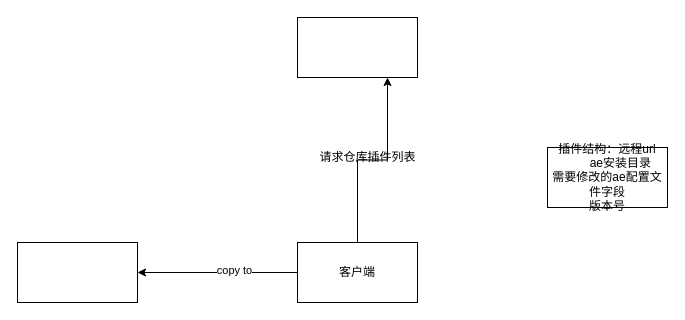
The diagram is 685 pixels wide and 320 high, and some of its shapes have lost their labels. The shapes that lost their labels are listed below. From the top down, each one's centre as x and y in pixels, then its label:
point (357, 47): 远程仓库
point (77, 272): ae安装
